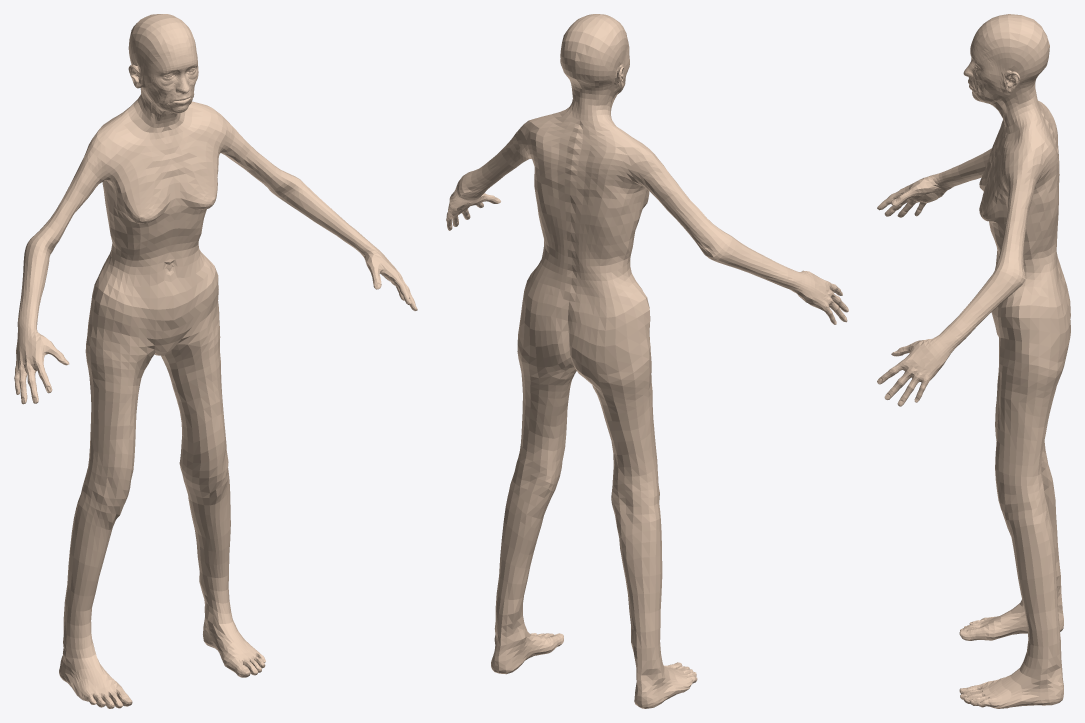
The model's file is female-elder-lean-low.glb.
3 renders of one model, left to right at view 1: azimuth 30°, elevation 25°; view 2: azimuth 150°, elevation 25°; view 3: azimuth 270°, elevation 25°, orthographic.
Visible parts, largest first — view 1: world; view 2: world; view 3: world.
Boxes of the visible parts, x1,y1,x2,y2 form: world: (14,14,417,708); world: (446,14,848,708); world: (877,14,1070,708).
Bounding box in the file's own units: 1.13 × 1.8 × 0.4856.
